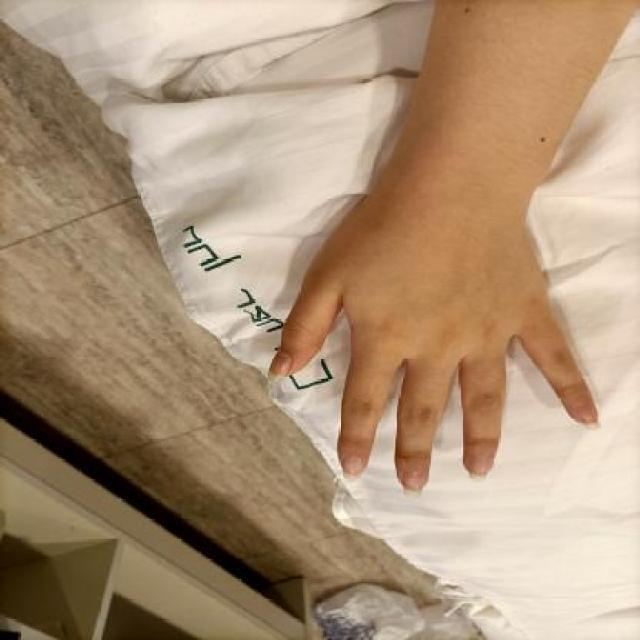bare_hand: (256, 180, 613, 508)
